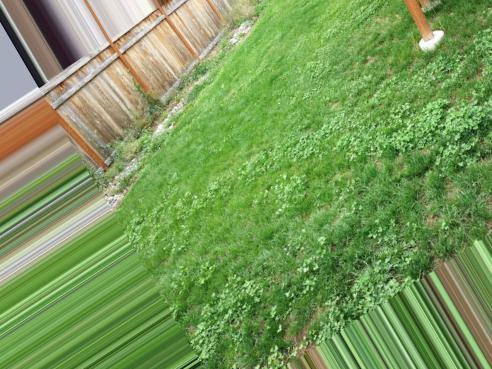patch: (427, 215, 440, 224)
